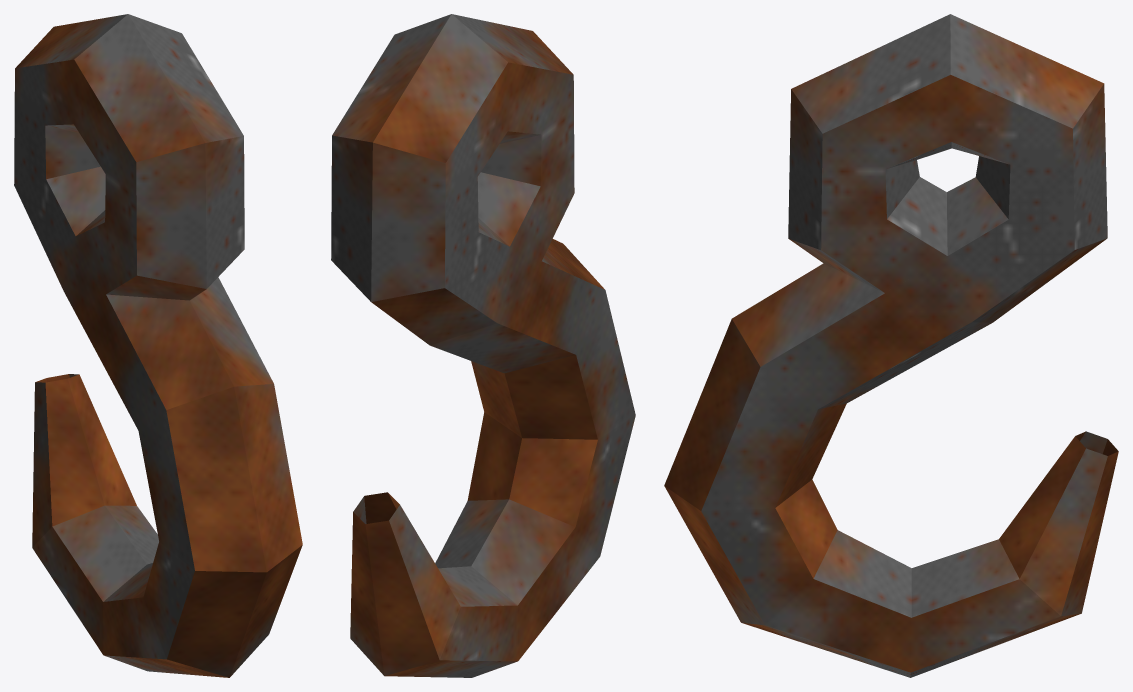
The model's file is ChainlinkHook.fbx.
3 renders of one model, left to right at view 1: azimuth 30°, elevation 25°; view 2: azimuth 150°, elevation 25°; view 3: azimuth 270°, elevation 25°, orthographic. The views are drawn at different scales.
Visible parts, largest first — view 1: ChainlinkHook; view 2: ChainlinkHook; view 3: ChainlinkHook.
Part boxes in pixels (x1=…): ChainlinkHook: x1=14, y1=14, x2=302, y2=677; ChainlinkHook: x1=331, y1=14, x2=635, y2=677; ChainlinkHook: x1=664, y1=14, x2=1118, y2=677.
Bounding box in the file's own units: 0.0528 × 0.3013 × 0.187.
1 material, 1 textured.
